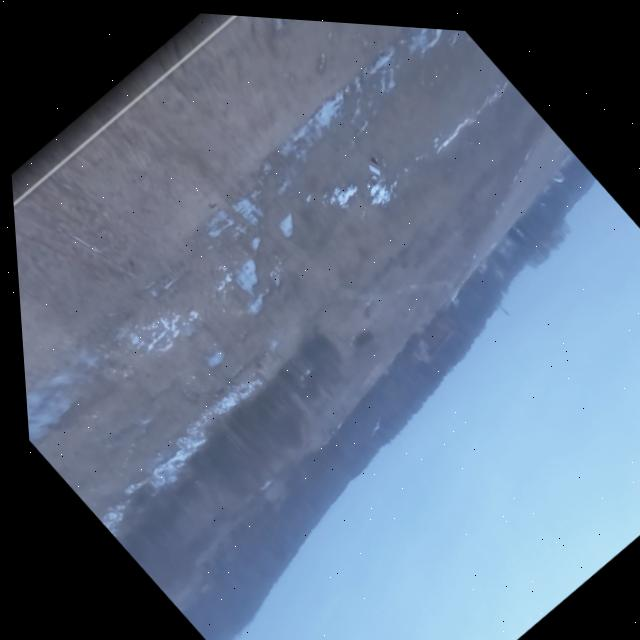planedrone: (358, 407, 400, 450)
